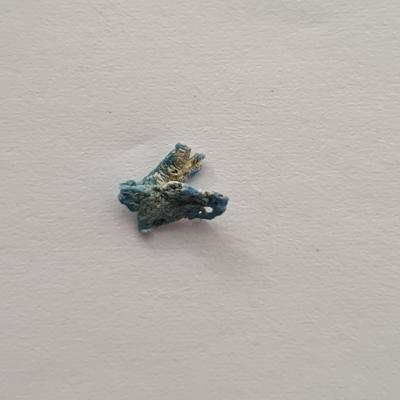plastic: (115, 137, 234, 238)
